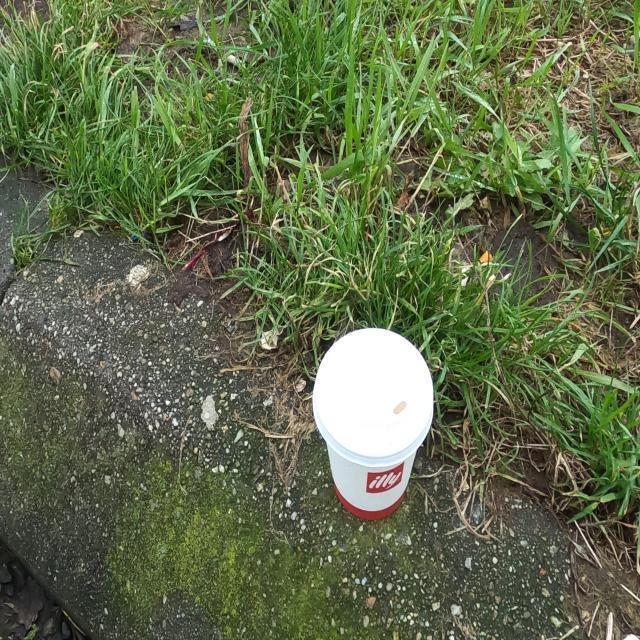Cup: (310, 326, 435, 524)
